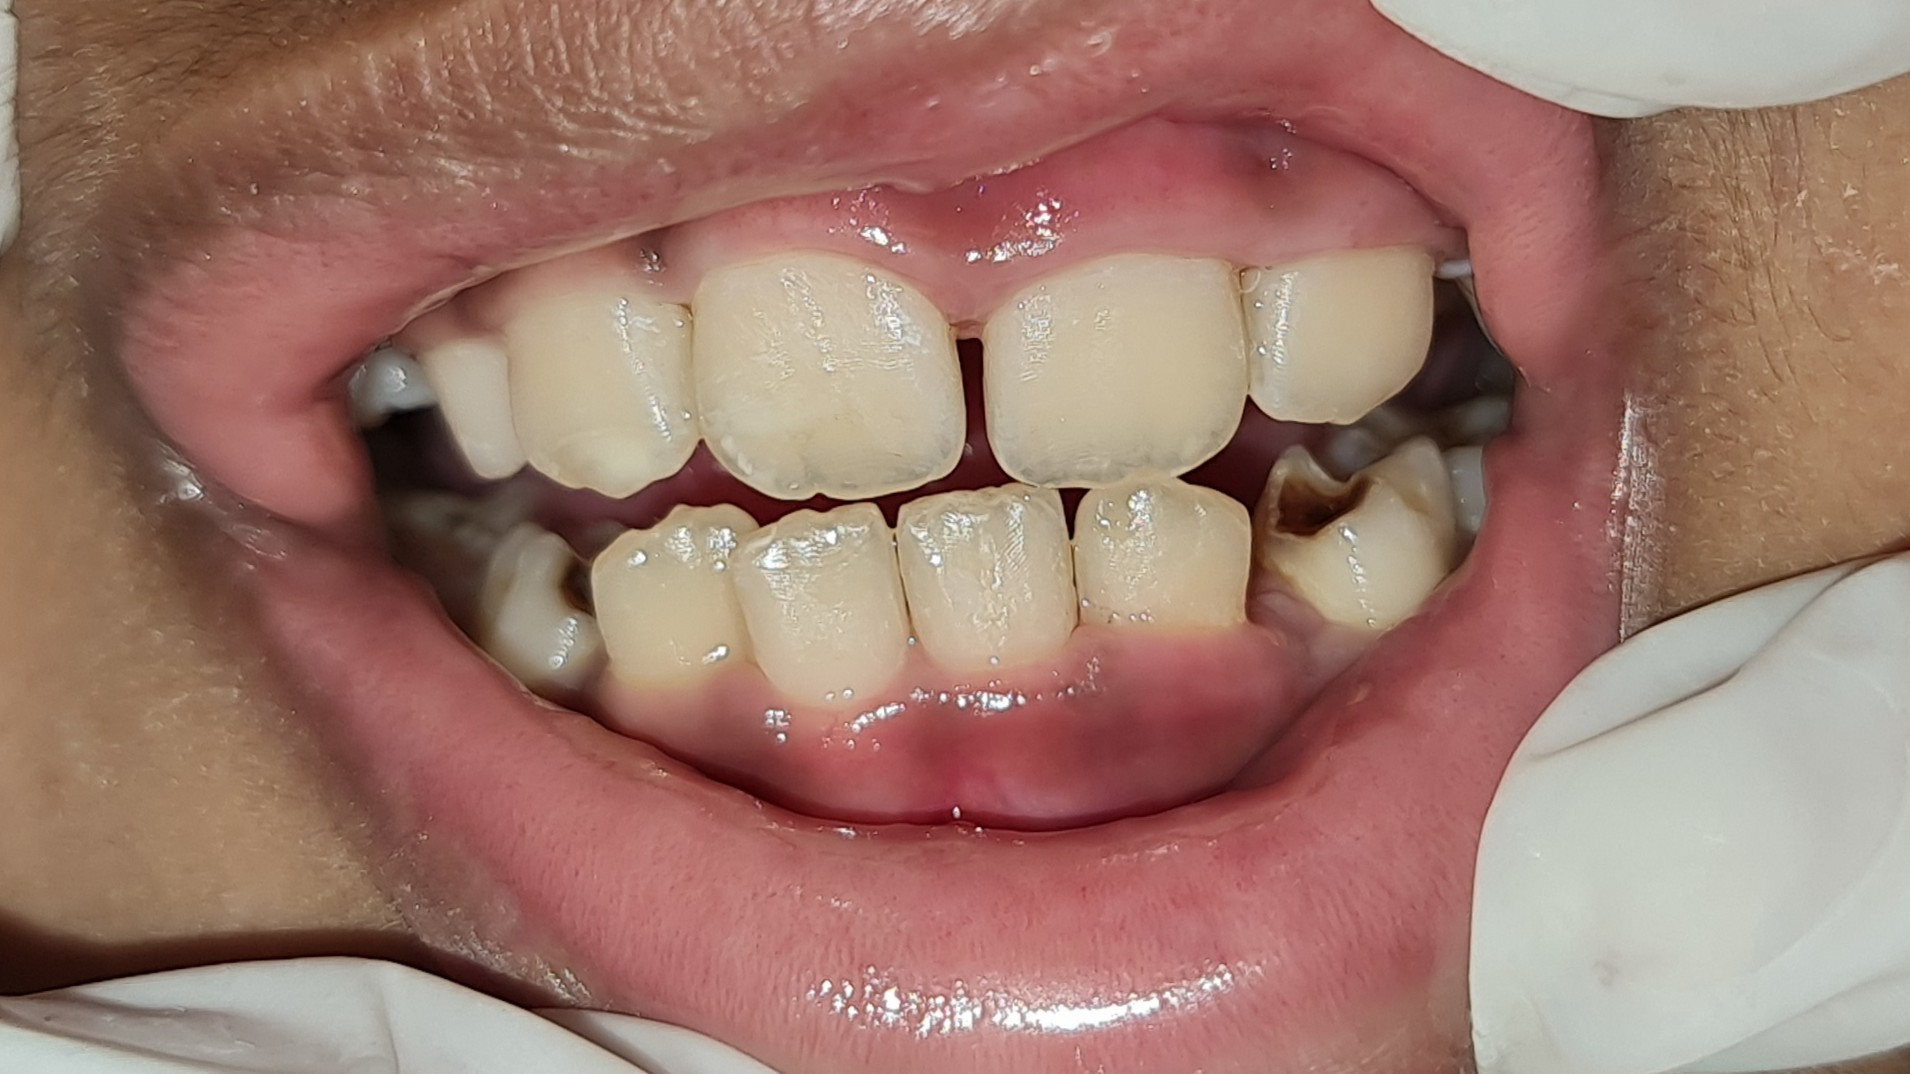d: (1253, 439, 1462, 620), (468, 514, 601, 687)
